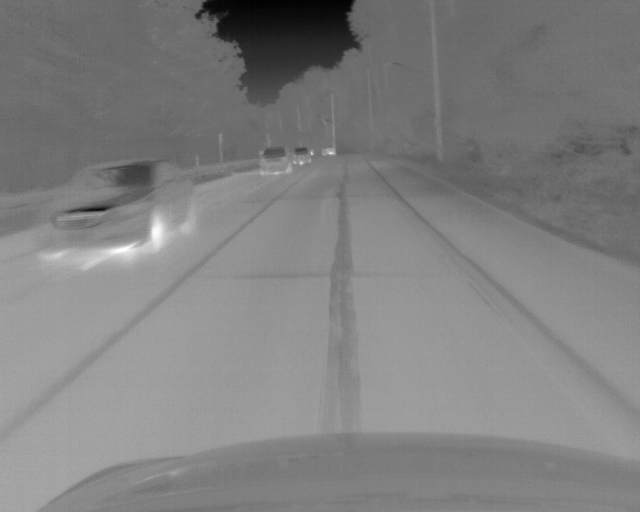car: (36, 158, 197, 265), (258, 143, 290, 177), (290, 147, 314, 169), (319, 144, 335, 157)
